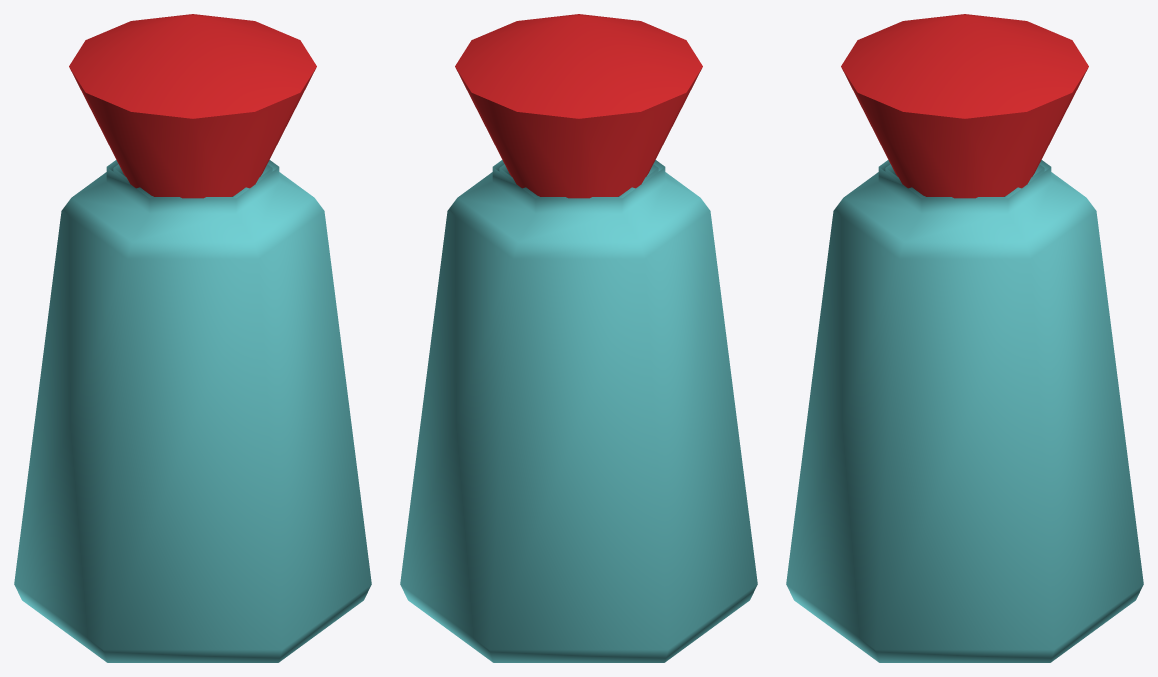
Rendered from MOD_PRO_Pepper_shaker_01.fbx.
3 renders of one model, left to right at view 1: azimuth 30°, elevation 25°; view 2: azimuth 150°, elevation 25°; view 3: azimuth 270°, elevation 25°, orthographic.
Visible parts, largest first — view 1: HSHP_MOD_Pepper_shaker; view 2: HSHP_MOD_Pepper_shaker; view 3: HSHP_MOD_Pepper_shaker.
Part boxes in pixels (left/top/right/bottom): HSHP_MOD_Pepper_shaker: left=14, top=14, right=371, bottom=662; HSHP_MOD_Pepper_shaker: left=400, top=14, right=757, bottom=662; HSHP_MOD_Pepper_shaker: left=786, top=14, right=1143, bottom=662.
Bounding box in the file's own units: 4.97 × 10.34 × 5.74.
